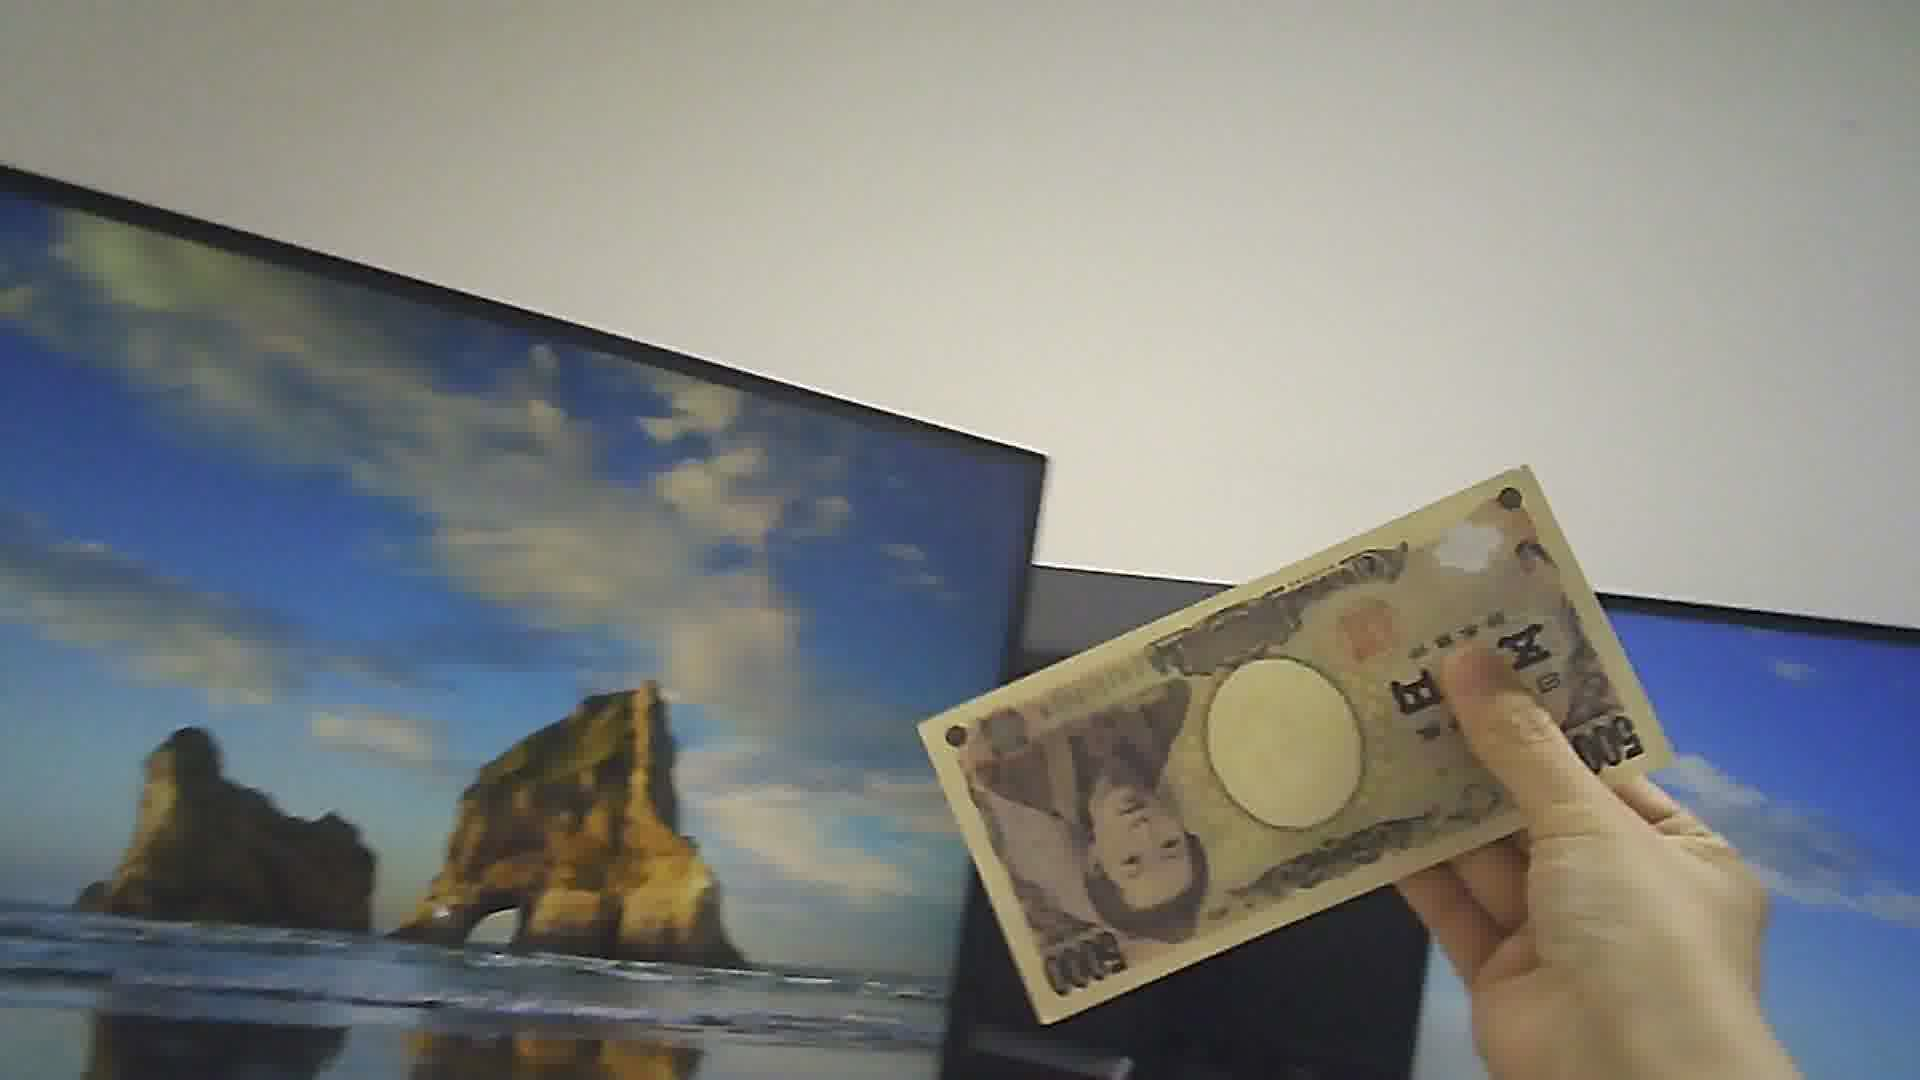5,000 Yen: (913, 443, 1698, 1009)
